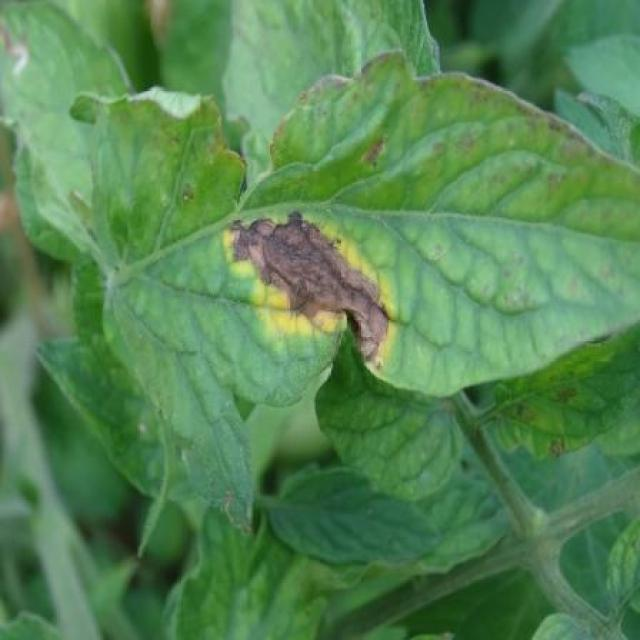Early Blight: (90, 44, 640, 542)
